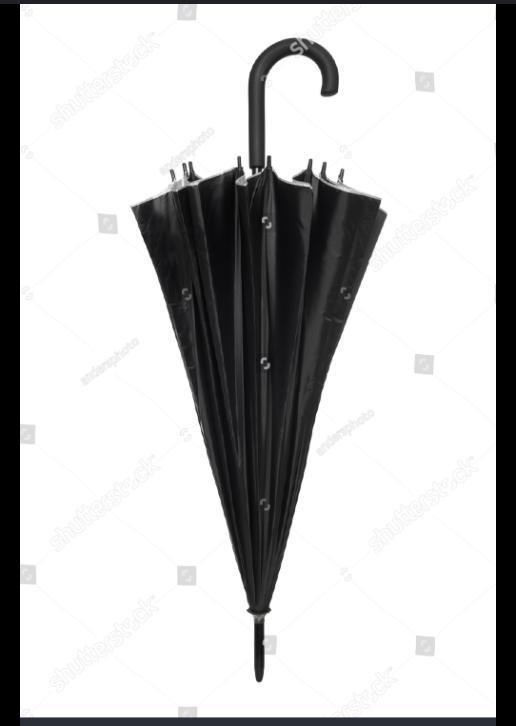Umbrella: (125, 34, 394, 686)
